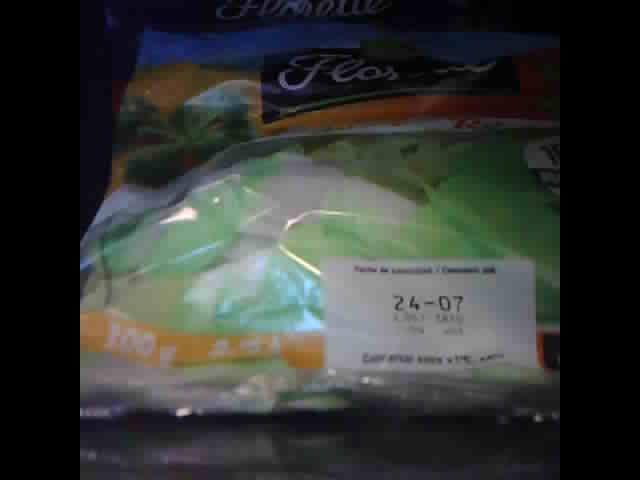florette: (81, 21, 559, 422), (106, 2, 541, 29)
